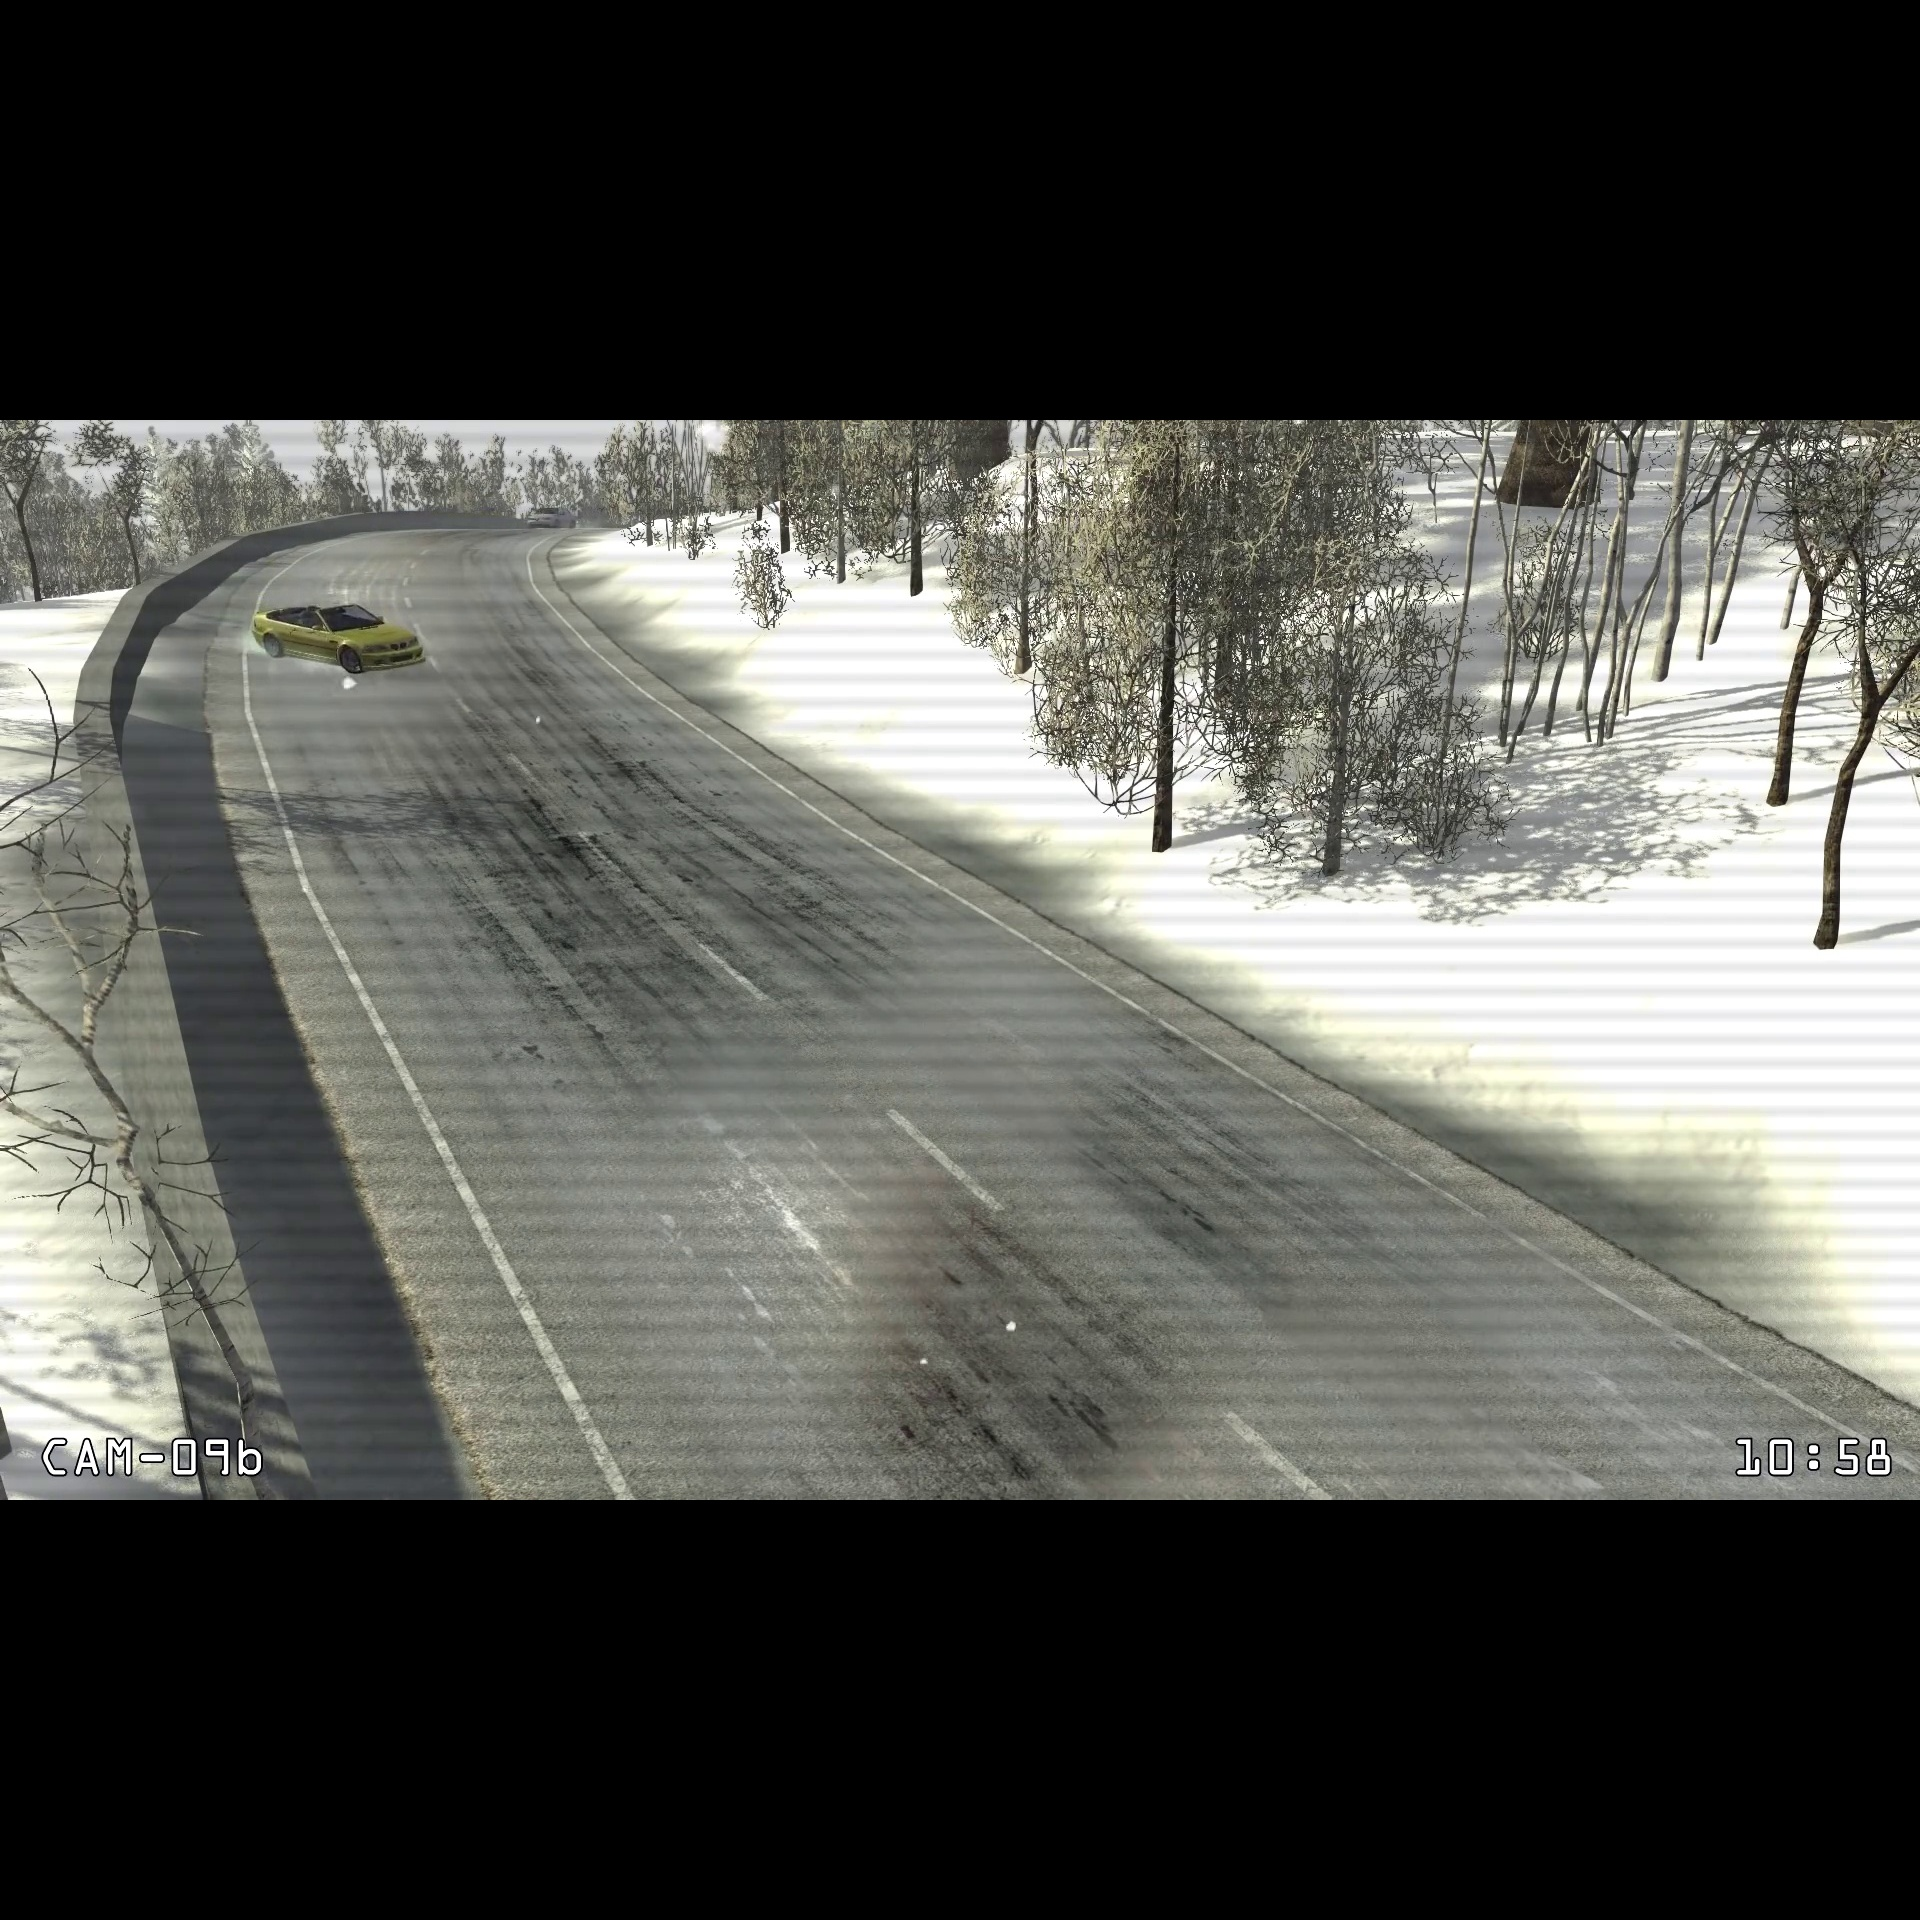vehicle: (250, 596, 431, 677), (519, 501, 582, 531)
